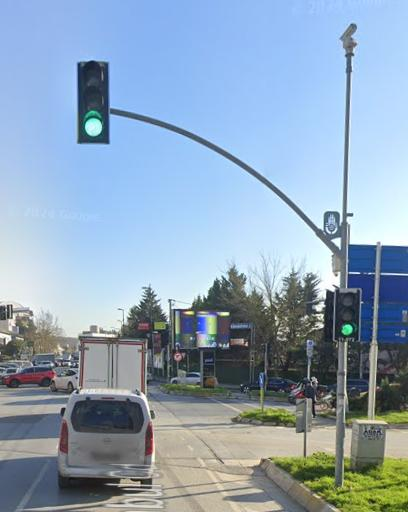greenlight: (78, 58, 113, 147), (331, 287, 362, 344)
